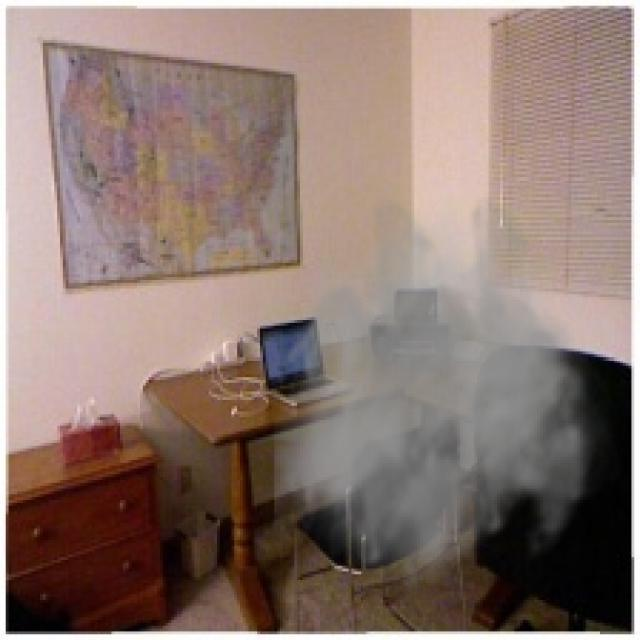Smoke: (274, 191, 623, 600)
